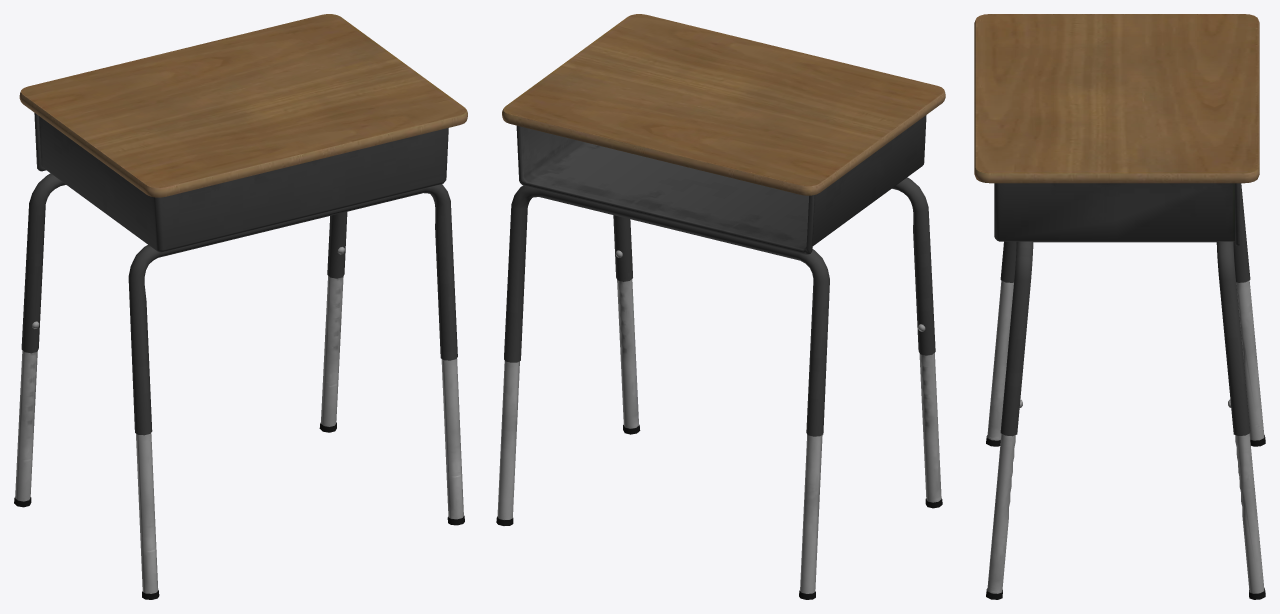
File: SchoolDesk_01.glb
3 views of the same model, side by side, from view 1: azimuth 30°, elevation 25°; view 2: azimuth 150°, elevation 25°; view 3: azimuth 270°, elevation 25° (orthographic). The views are drawn at different scales.
Parts seen in each view (by area): view 1: SchoolDesk_01; view 2: SchoolDesk_01; view 3: SchoolDesk_01.
Part boxes in pixels (x1,y1,x2,y2): SchoolDesk_01: (14,14,467,599); SchoolDesk_01: (496,14,945,599); SchoolDesk_01: (974,14,1265,599).
Size of the model in its own units: 0.7118 by 0.8826 by 0.546.
1 material, 1 textured.
